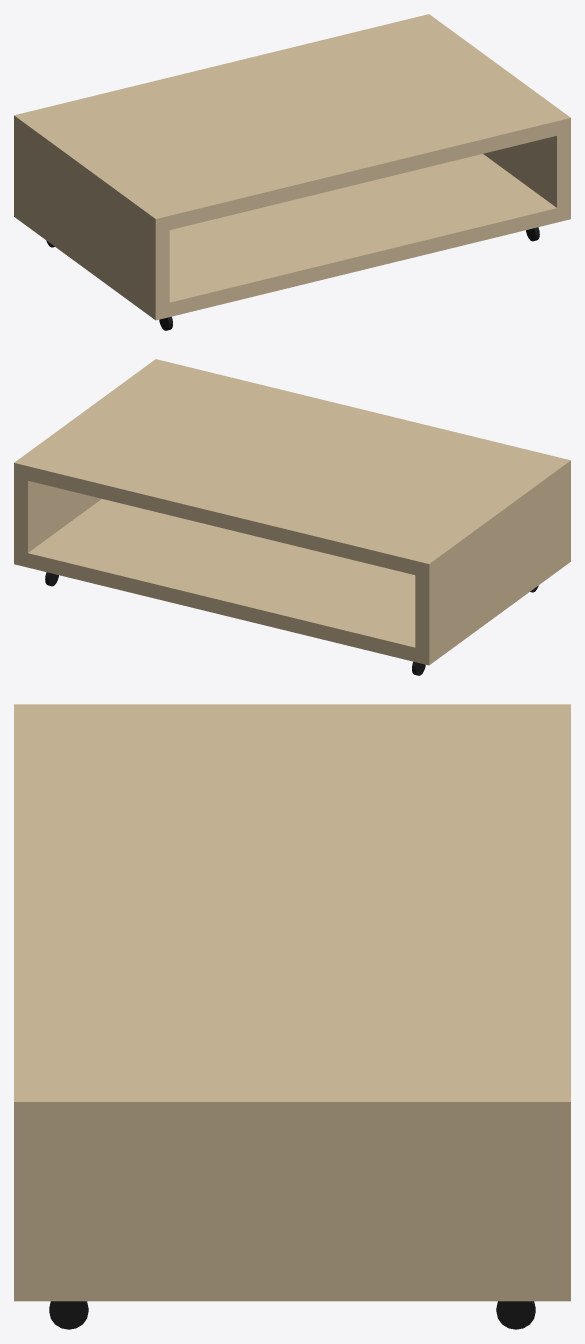
3 renders of one model, top to bottom at view 1: azimuth 30°, elevation 25°; view 2: azimuth 150°, elevation 25°; view 3: azimuth 270°, elevation 25°, orthographic. The views are drawn at different scales.
Visible parts, largest first — view 1: Boards; view 2: Boards; view 3: Boards, RollerWheels.
Boxes of the visible parts, box(x1,y1,x2,y2) form: Boards: box(14, 14, 570, 320); Boards: box(14, 359, 570, 665); Boards: box(14, 704, 570, 1301); RollerWheels: box(49, 1301, 535, 1329).
Size of the model in its own units: 1.2 by 0.35 by 0.71.
